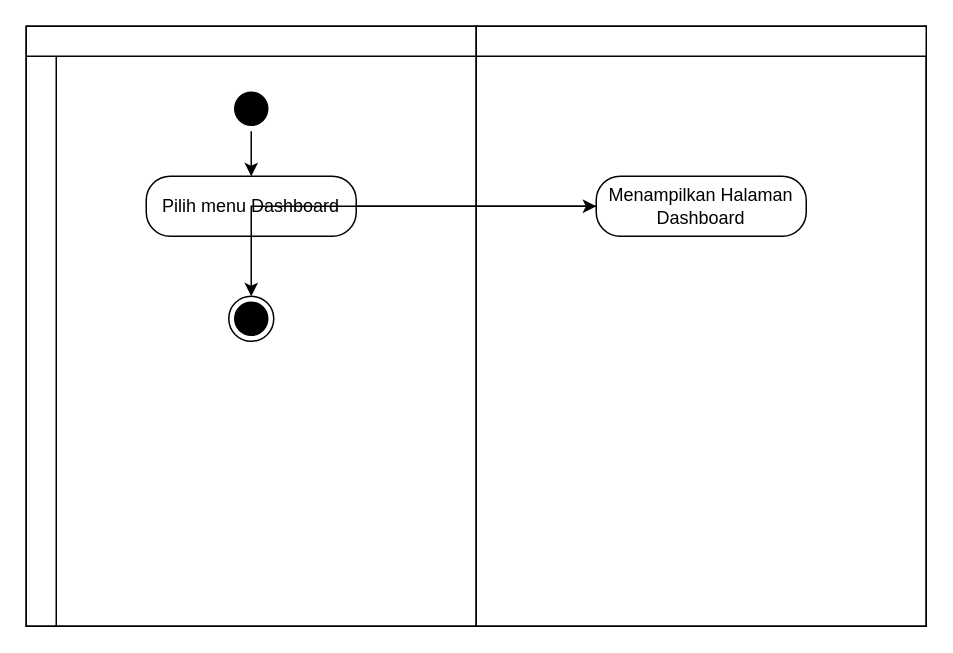
The diagram is 953 pixels wide and 653 high, and some of its shapes have lost their labels. Each missing label, with the box of its shape:
Pengguna: (25, 25, 476, 626)
Sistem: (475, 25, 926, 626)
